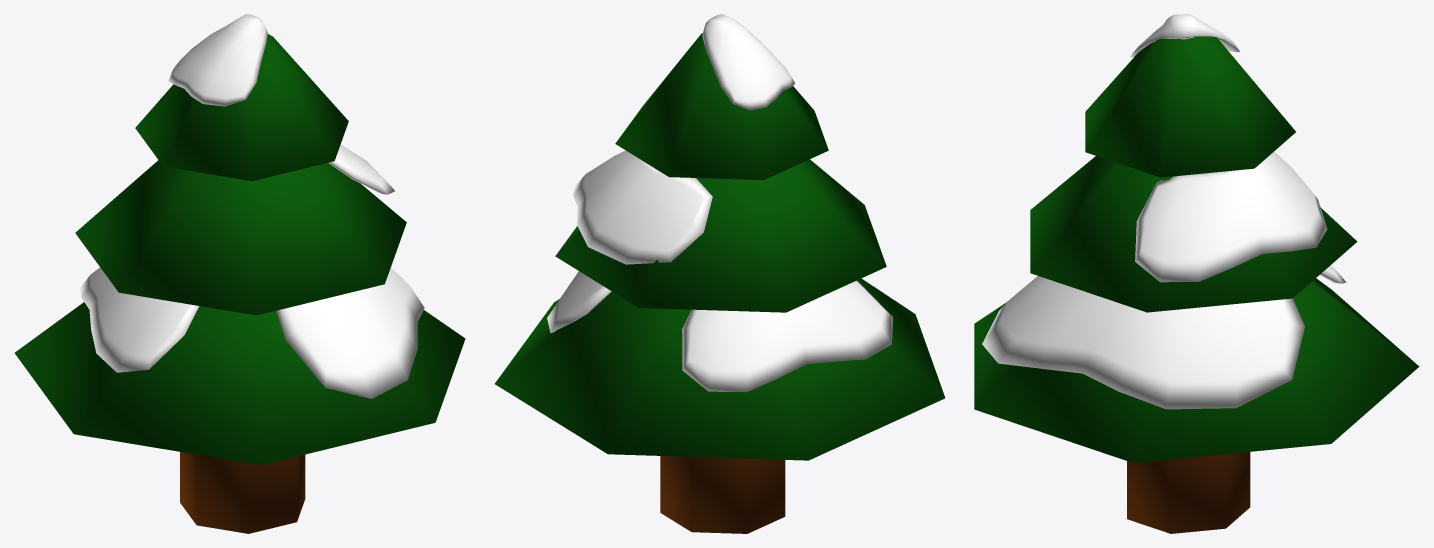
The model's file is show tree.fbx.
3 views of the same model, side by side, from view 1: azimuth 30°, elevation 25°; view 2: azimuth 150°, elevation 25°; view 3: azimuth 270°, elevation 25° (orthographic).
Parts seen in each view (by area): view 1: Cylinder; view 2: Cylinder; view 3: Cylinder.
Boxes of the visible parts, x1,y1,x2,y2 form: Cylinder: [15, 14, 465, 533]; Cylinder: [495, 14, 945, 533]; Cylinder: [974, 14, 1419, 533].
Bounding box in the file's own units: 702 × 838 × 685.
